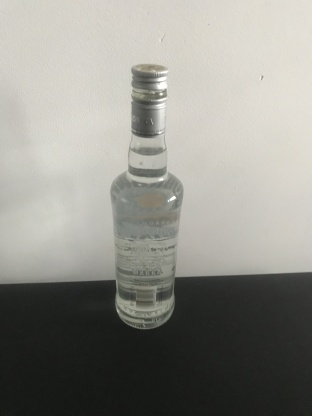nakretka: (129, 61, 170, 138)
